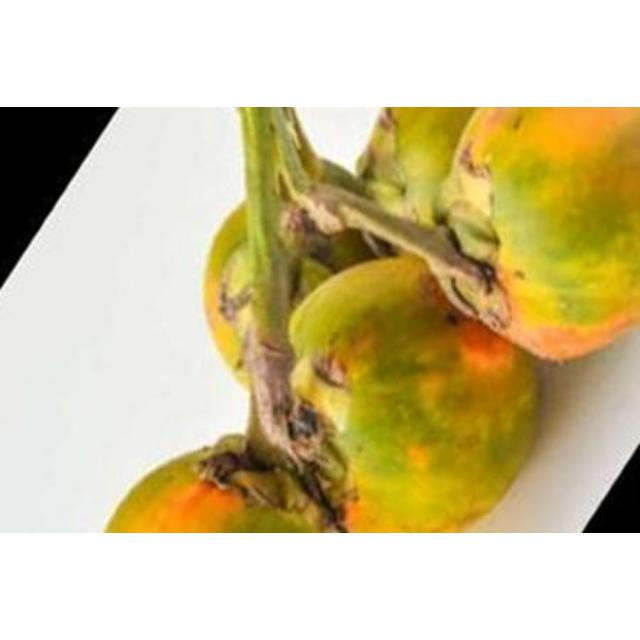good: (284, 255, 542, 530), (445, 109, 637, 358), (204, 198, 360, 394), (97, 444, 327, 532), (359, 108, 497, 246)
